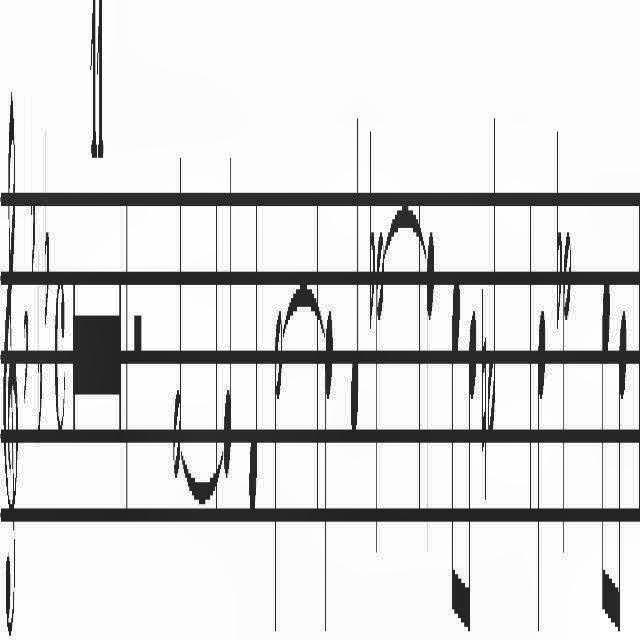Bass-clef: (2, 74, 18, 640)
Bemol: (44, 120, 50, 334), (36, 247, 42, 458), (30, 85, 36, 292), (23, 208, 29, 410), (556, 123, 560, 334), (370, 124, 374, 326)
Eighth-note: (462, 306, 476, 630), (612, 306, 626, 630), (601, 263, 611, 622), (452, 254, 461, 626)
Half-note: (562, 206, 572, 562), (173, 144, 183, 486), (487, 108, 497, 442), (273, 302, 283, 634), (376, 214, 384, 566)
Quarter-note: (248, 167, 258, 538), (349, 103, 359, 450), (223, 148, 233, 490), (425, 230, 435, 562), (536, 311, 546, 634), (323, 302, 332, 638)
